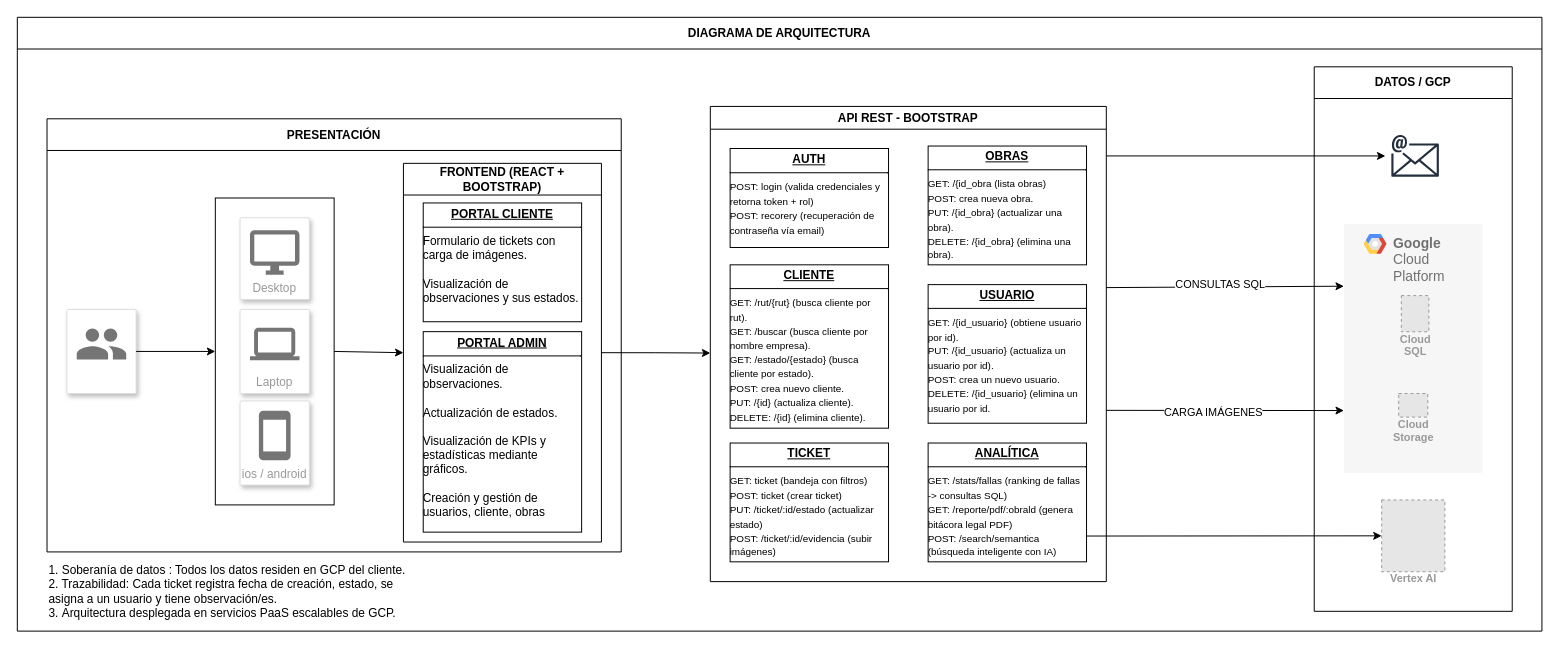
The diagram is 1559 pixels wide and 648 high, and some of its shapes have lost their labels. Grey dashed boxes stand in for pictures. The shapes that lost their labels are listed below. From the top down, each one's centre as x and y in pixels, then its label:
[1414,155]: SMPT / EMAIL
[102,352]: Usuario / Administrador
